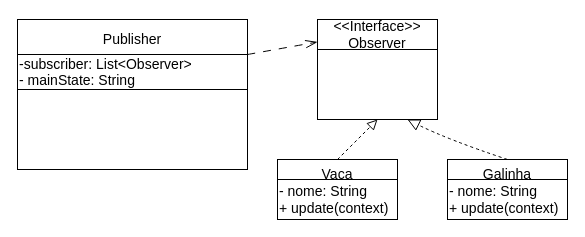
The diagram is 585 pixels wide and 237 high, and some of its shapes have lost their labels. Here are the shapes that lost their labels. From the top down, the centre of each, then its label:
At point 377,84: "+ update(context)".
At point 132,129: "+ subscribe(s: Observer) + unsubscribe(s: Observer) + notifySubscribers()".
